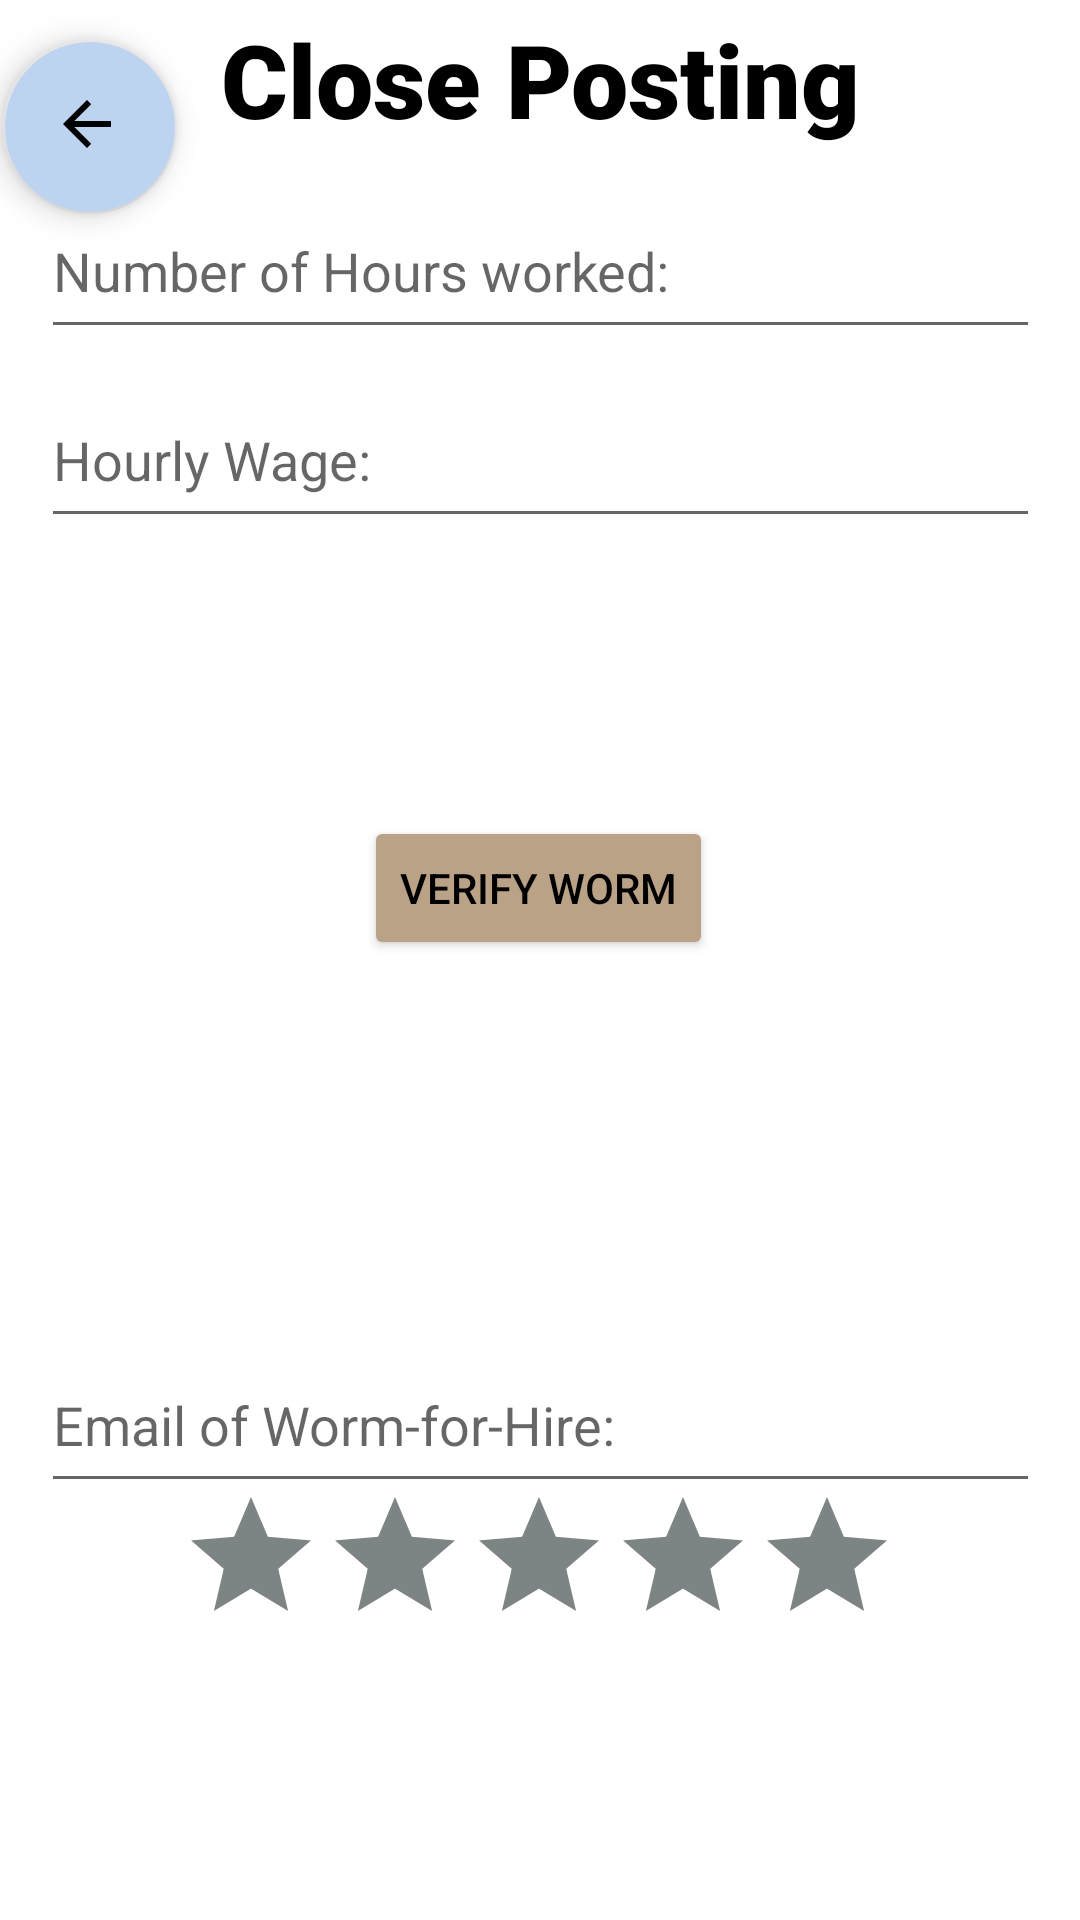

Screen size 1080px x 1920px. Icon name, then its box in pixels as (x1, y1, x2, y2):
Back Button: (3, 42, 177, 214)
